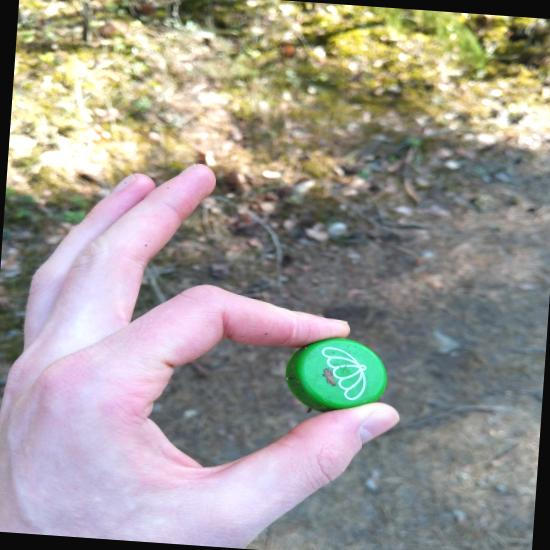Plastic film: (100, 472, 184, 544), (214, 350, 261, 403), (404, 113, 454, 153), (203, 252, 241, 298), (369, 149, 412, 183), (312, 148, 344, 179), (148, 113, 179, 142), (134, 201, 158, 230), (441, 214, 479, 229)
Plastic lid: (2, 221, 16, 237)
